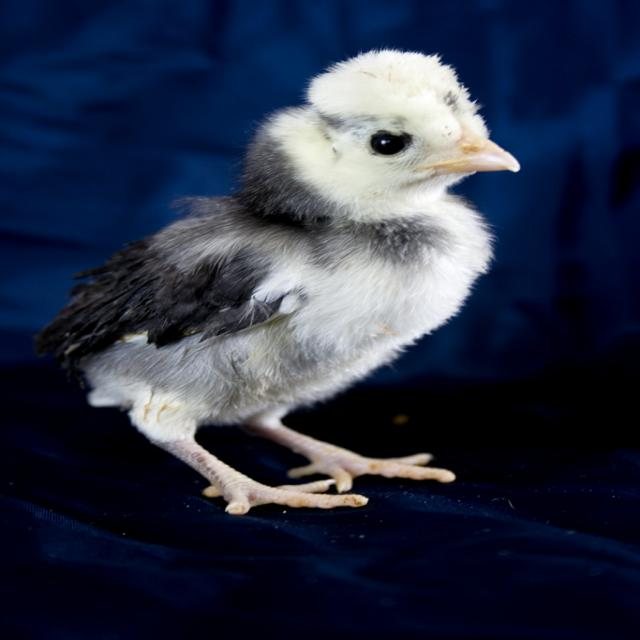Chicken: (46, 45, 516, 548)
